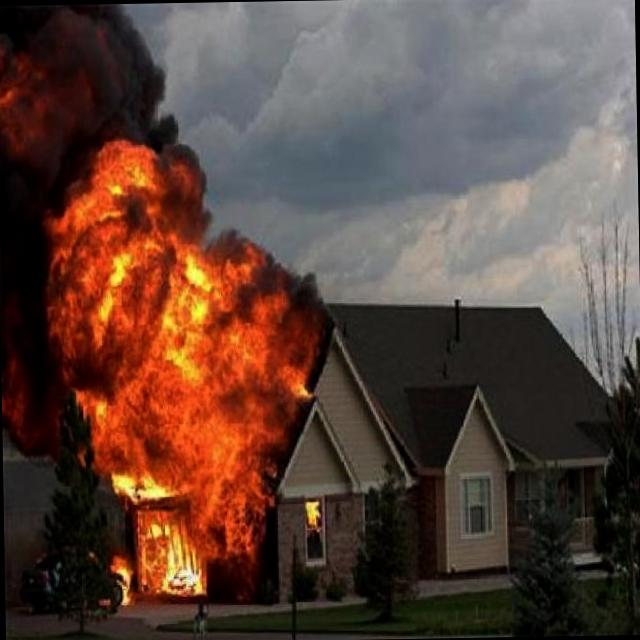Fire_Dangerous: (0, 82, 306, 613)
